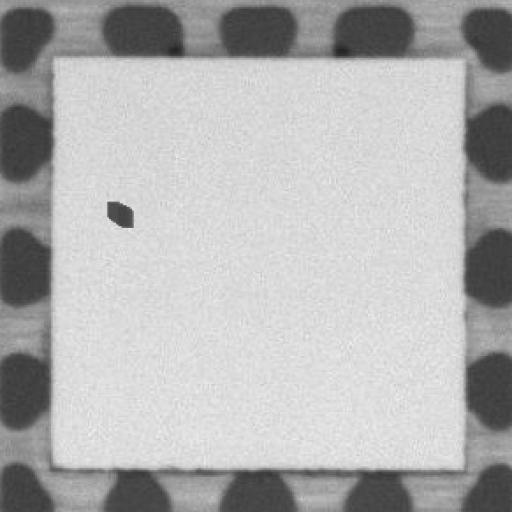DIE_INK: (95, 196, 140, 230)
